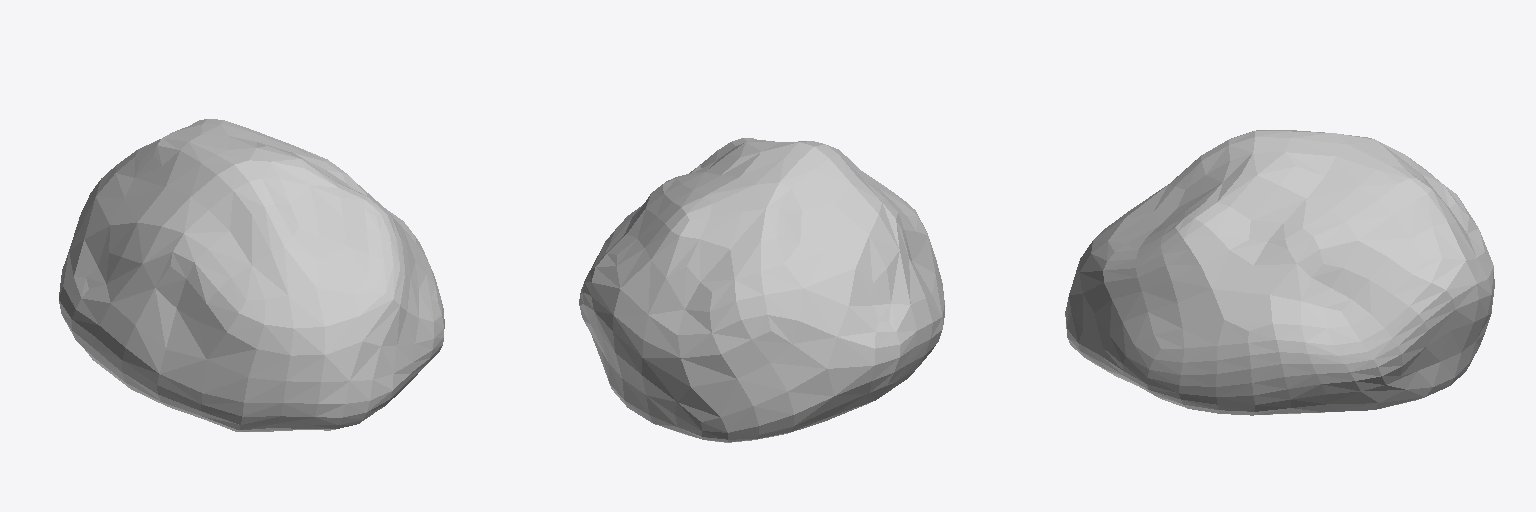
The model's file is Rock_1.obj.
3 views of the same model, side by side, from view 1: azimuth 30°, elevation 25°; view 2: azimuth 150°, elevation 25°; view 3: azimuth 270°, elevation 25° (orthographic).
Visible parts, largest first — view 1: pSphere1; view 2: pSphere1; view 3: pSphere1.
Boxes of the visible parts, x1=… form: pSphere1: x1=59, y1=119, x2=444, y2=431; pSphere1: x1=579, y1=138, x2=944, y2=442; pSphere1: x1=1065, y1=130, x2=1494, y2=415.
Size of the model in its own units: 50.96 by 33.76 by 60.01.